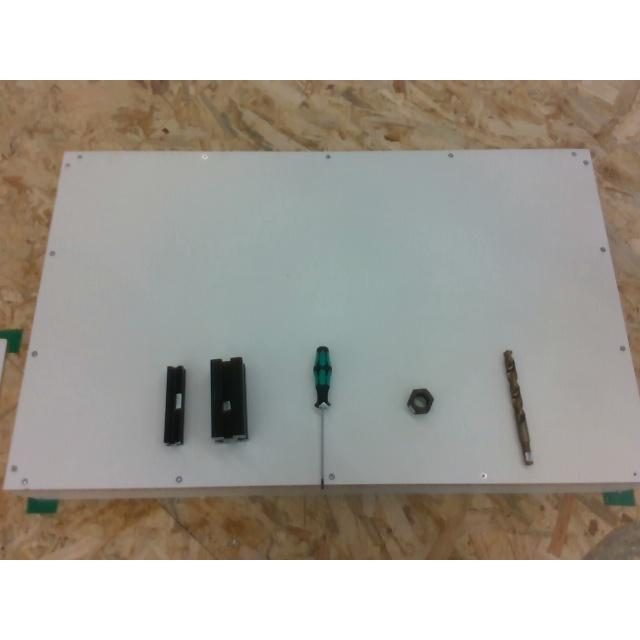Drill: (503, 350, 532, 464)
F20_20_B: (163, 364, 184, 444)
M20: (406, 388, 434, 412)
S40_40_B: (210, 357, 248, 443)
Screwdriver: (313, 345, 331, 489)
